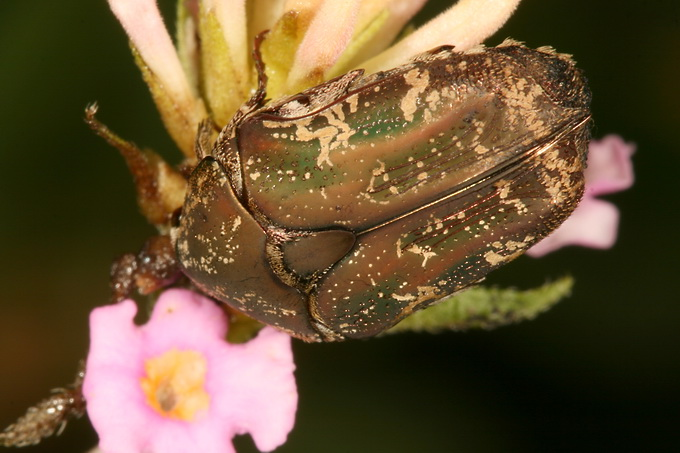Protaetia_fusca: (114, 27, 591, 346)
